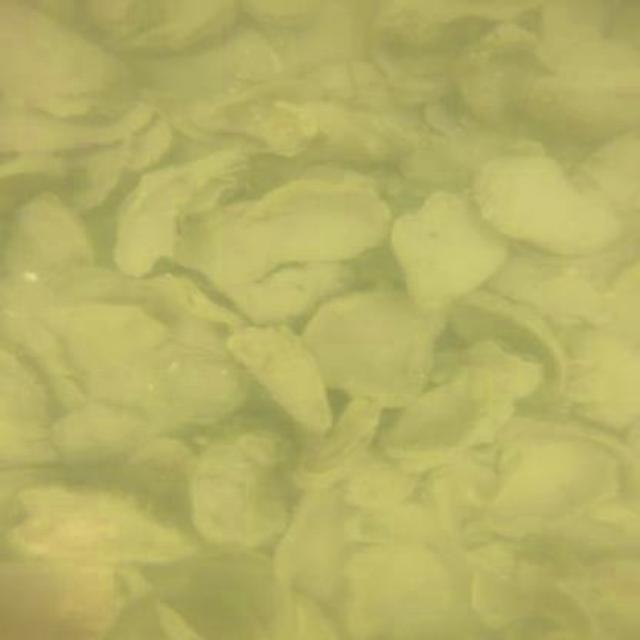Oyster-Closed: (169, 176, 393, 295), (300, 287, 447, 410), (468, 151, 626, 254), (1, 1, 133, 120), (7, 490, 203, 567), (479, 436, 617, 545), (448, 288, 571, 410), (392, 188, 514, 311), (377, 365, 517, 468), (469, 546, 611, 640), (187, 424, 293, 549), (454, 18, 574, 127), (225, 324, 333, 434), (510, 69, 638, 140), (6, 194, 95, 283), (0, 338, 60, 469), (300, 102, 417, 165), (160, 349, 249, 426), (116, 0, 237, 49), (301, 57, 395, 110), (238, 0, 322, 29)
